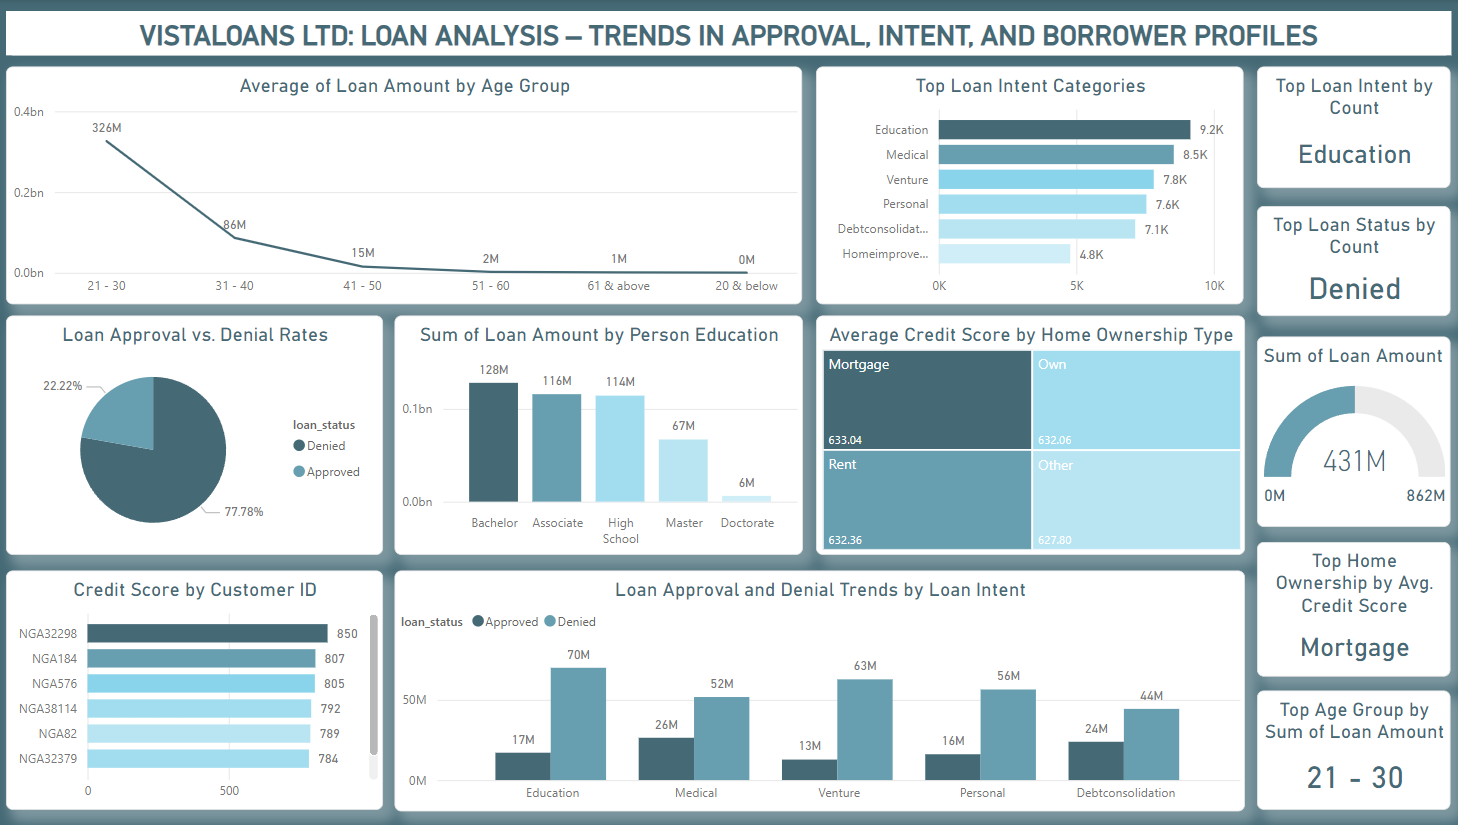

Layout of this report page (visuals, bound fields, positions):
{"tool":"powerbi","page":{"name":"ANALYTICAL REPORT","canvas":[1280,720],"ordinal":0},"visuals":[{"type":"lineChart","title":"Average of Loan Amount by Age Group","fields":{"Category":["Copy of Copy_of_loan_data(1)(1).Age Group"],"Y":["Sum(Copy of Copy_of_loan_data(1)(1).loan_amnt)"]},"box":[10,58.6,694.3,207.1],"z":0},{"type":"barChart","title":" Credit Score by Customer ID","fields":{"Category":["Copy of Copy_of_loan_data(1)(1).customer -id"],"Y":["Sum(Copy of Copy_of_loan_data(1)(1).credit_score)"]},"box":[10,498.6,328.6,208.6],"z":1000},{"type":"barChart","title":"Top Loan Intent Categories","fields":{"Category":["Copy of Copy_of_loan_data(1)(1).loan_intent"],"Y":["CountNonNull(Copy of Copy_of_loan_data(1)(1).loan_intent)"]},"box":[717.1,58.6,372.9,207.1],"z":2000},{"type":"clusteredColumnChart","title":"Sum of Loan Amount by Person Education","fields":{"Y":["Sum(Copy of Copy_of_loan_data(1)(1).loan_amnt)"],"Category":["Copy of Copy_of_loan_data(1)(1).person_education"]},"box":[348.6,275.7,355.7,208.6],"z":3000},{"type":"pieChart","title":"Loan Approval vs. Denial Rates","fields":{"Category":["Copy of Copy_of_loan_data(1)(1).loan_status"],"Y":["CountNonNull(Copy of Copy_of_loan_data(1)(1).loan_status)"]},"box":[10,275.7,328.6,208.6],"z":4000},{"type":"clusteredColumnChart","title":"Loan Approval and Denial Trends by Loan Intent","fields":{"Y":["Sum(Copy of Copy_of_loan_data(1)(1).loan_amnt)"],"Category":["Copy of Copy_of_loan_data(1)(1).loan_intent"],"Series":["Copy of Copy_of_loan_data(1)(1).loan_status"]},"box":[348.6,498.6,741.4,210],"z":5000},{"type":"treemap","title":"Average Credit Score by Home Ownership Type","fields":{"Group":["Copy of Copy_of_loan_data(1)(1).person_home_ownership"],"Values":["Avg(Copy of Copy_of_loan_data(1)(1).credit_score)"]},"box":[717.1,275.7,374.3,208.6],"z":6000},{"type":"textbox","title":"VISTALOANS LTD: LOAN ANALYSIS – TRENDS IN APPROVAL, INTENT, AND BORROWER PROFILES","box":[10,10,1260,38.6],"z":7000},{"type":"card","title":"Top Loan Intent by Count","fields":{"Values":["Min(Copy of Copy_of_loan_data(1)(1).loan_intent)"]},"box":[1101.4,58.6,168.6,105.7],"z":8000},{"type":"card","title":"Top Loan Status by Count","fields":{"Values":["Min(Copy of Copy_of_loan_data(1)(1).loan_status)"]},"box":[1101.4,180,168.6,95.7],"z":9000},{"type":"gauge","title":"Sum of Loan Amount","fields":{"Y":["Sum(Copy of Copy_of_loan_data(1)(1).loan_amnt)"]},"box":[1101.4,294.3,168.6,165.7],"z":10000},{"type":"card","title":"Top Home Ownership by Avg. Credit Score","fields":{"Values":["Min(Copy of Copy_of_loan_data(1)(1).person_home_ownership)"]},"box":[1101.4,472.9,168.6,117.1],"z":11000},{"type":"card","title":"Top Age Group by Sum of  Loan Amount","fields":{"Values":["Min(Copy of Copy_of_loan_data(1)(1).Age Group)"]},"box":[1101.4,602.9,168.6,104.3],"z":12000}]}

Visuals, with their boxes in screenshot pixels (x1, y1, x2, y2), scaled from the page's 1280x720 canvas onto the 1458x825 screenshot:
"Average of Loan Amount by Age Group" lineChart: l=11, t=67, r=802, b=304
" Credit Score by Customer ID" barChart: l=11, t=571, r=386, b=810
"Top Loan Intent Categories" barChart: l=817, t=67, r=1242, b=304
"Sum of Loan Amount by Person Education" clusteredColumnChart: l=397, t=316, r=802, b=555
"Loan Approval vs. Denial Rates" pieChart: l=11, t=316, r=386, b=555
"Loan Approval and Denial Trends by Loan Intent" clusteredColumnChart: l=397, t=571, r=1242, b=812
"Average Credit Score by Home Ownership Type" treemap: l=817, t=316, r=1243, b=555
"VISTALOANS LTD: LOAN ANALYSIS – TRENDS IN APPROVAL, INTENT, AND BORROWER PROFILES" textbox: l=11, t=11, r=1447, b=56
"Top Loan Intent by Count" card: l=1255, t=67, r=1447, b=188
"Top Loan Status by Count" card: l=1255, t=206, r=1447, b=316
"Sum of Loan Amount" gauge: l=1255, t=337, r=1447, b=527
"Top Home Ownership by Avg. Credit Score" card: l=1255, t=542, r=1447, b=676
"Top Age Group by Sum of  Loan Amount" card: l=1255, t=691, r=1447, b=810
